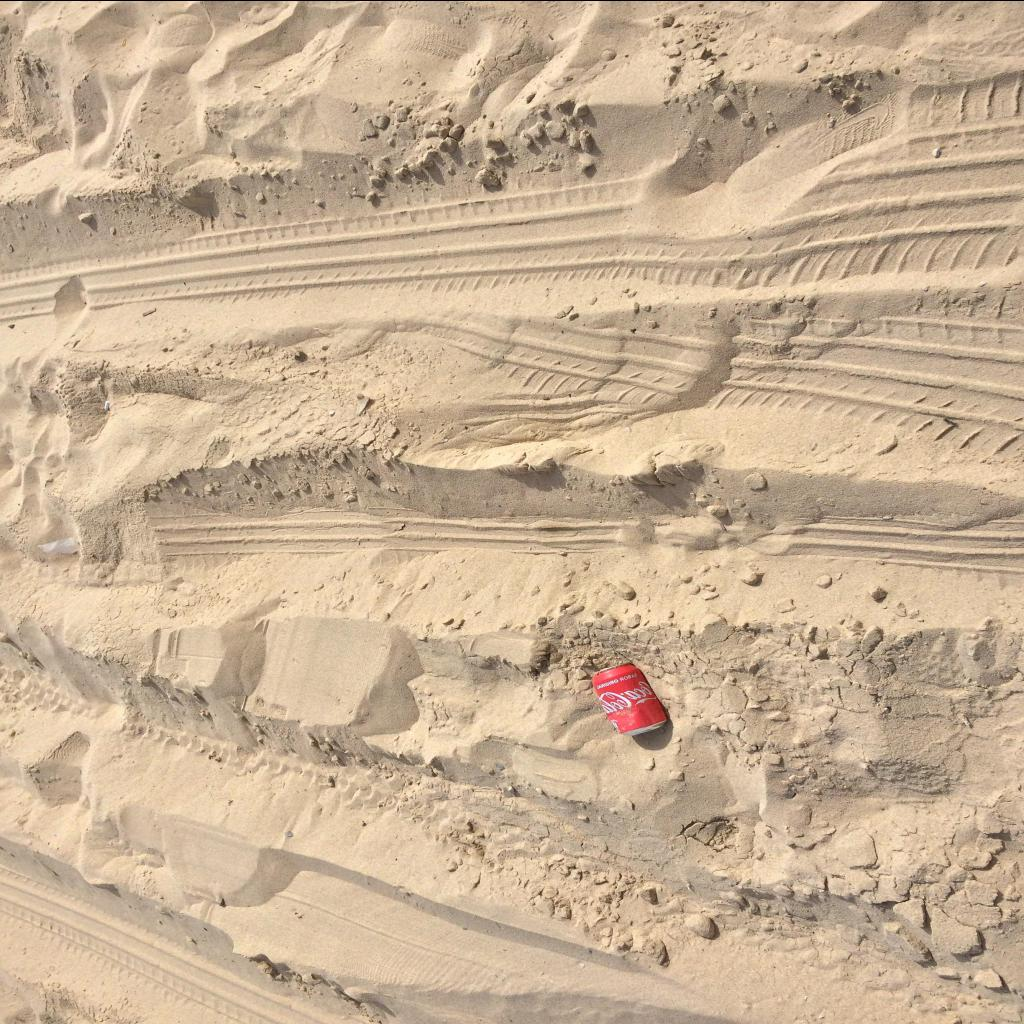Drink can: (592, 661, 668, 735)
Plastic film: (38, 536, 80, 554)
